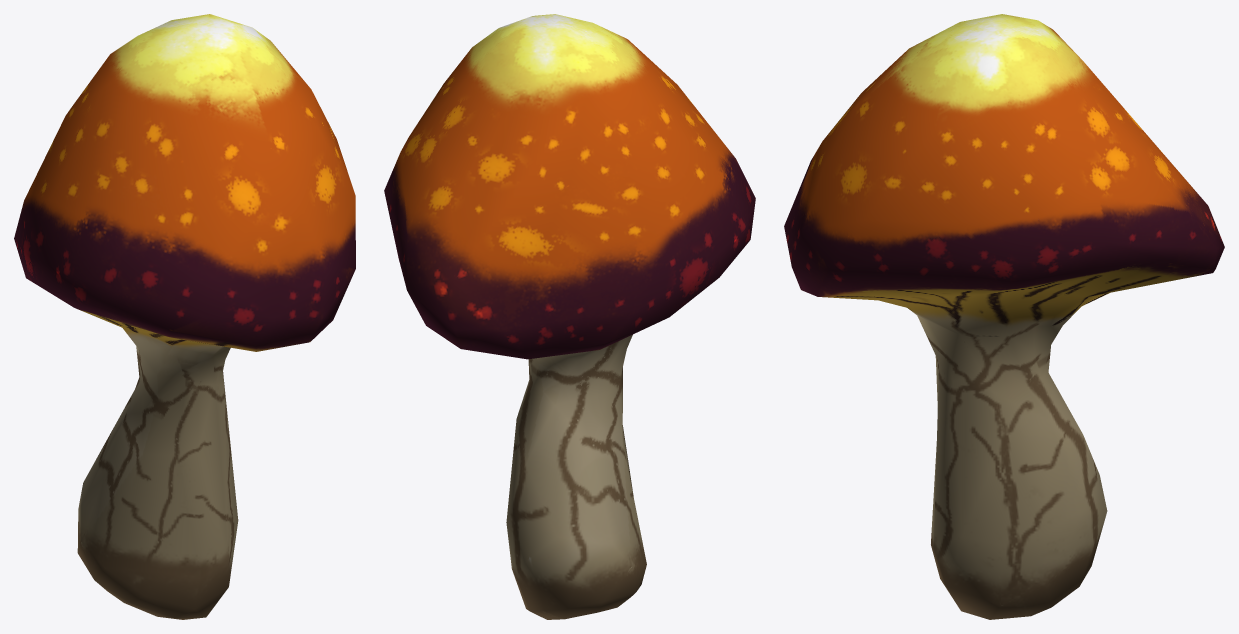
The model's file is mushroomTest.fbx.
The picture shows the model from 3 angles, left to right: view 1: azimuth 30°, elevation 25°; view 2: azimuth 150°, elevation 25°; view 3: azimuth 270°, elevation 25°; orthographic projection. The views are drawn at different scales.
Visible parts, largest first — view 1: Cylinder.002; view 2: Cylinder.002; view 3: Cylinder.002.
Part boxes in pixels (x1,y1,x2,y2): Cylinder.002: [14, 14, 355, 619]; Cylinder.002: [384, 14, 755, 619]; Cylinder.002: [784, 14, 1224, 619].
Bounding box in the file's own units: 66.98 × 127 × 84.82.
